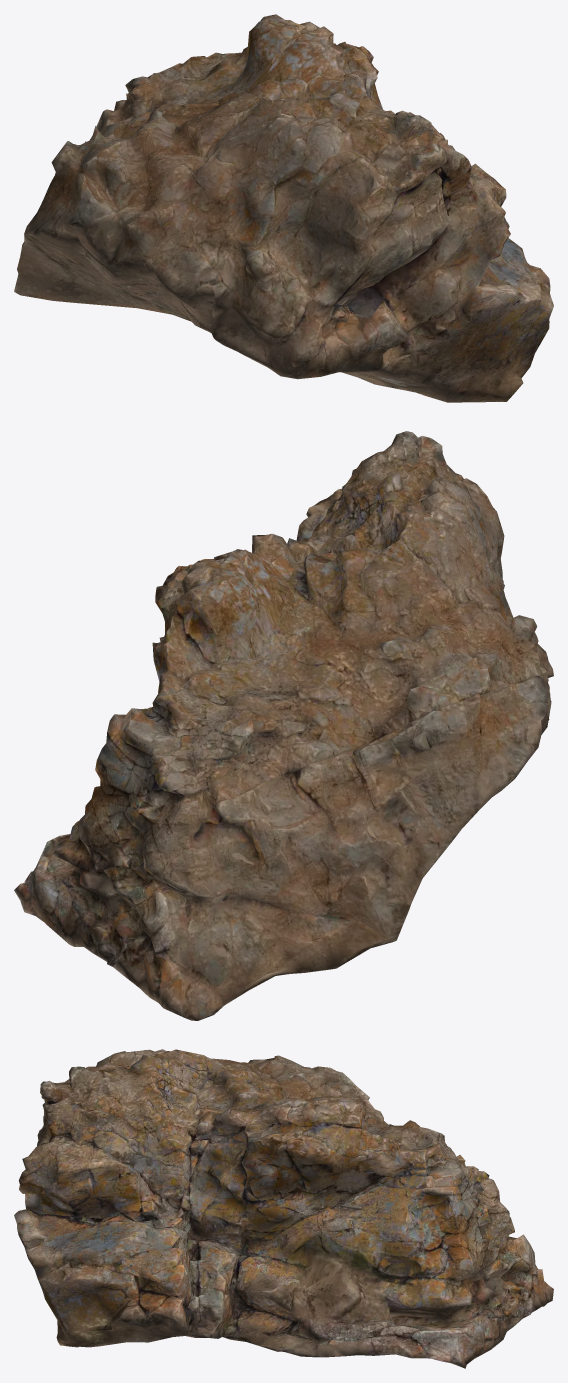
File: boulder_01.glb
3 renders of one model, top to bottom at view 1: azimuth 30°, elevation 25°; view 2: azimuth 150°, elevation 25°; view 3: azimuth 270°, elevation 25°, orthographic. The views are drawn at different scales.
Parts seen in each view (by area): view 1: boulder_01_LOD3; view 2: boulder_01_LOD3; view 3: boulder_01_LOD3.
Part boxes in pixels (box(x1,y1,x2,y2)): boulder_01_LOD3: box(14, 14, 553, 402); boulder_01_LOD3: box(14, 431, 553, 1020); boulder_01_LOD3: box(14, 1049, 553, 1368).
Size of the model in its own units: 1.27 by 1 by 1.83.
1 material, 1 textured.
